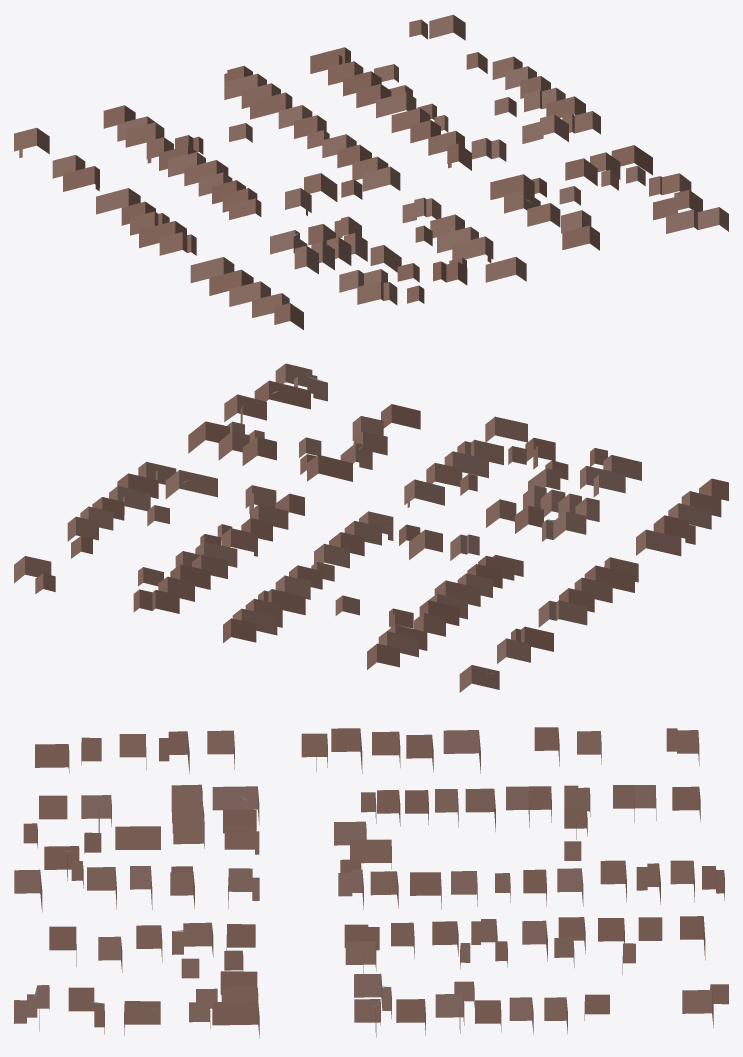
Rendered from c_1636_17820_buildings_residential.glb.
3 renders of one model, top to bottom at view 1: azimuth 30°, elevation 25°; view 2: azimuth 150°, elevation 25°; view 3: azimuth 270°, elevation 25°, orthographic. The views are drawn at different scales.
Visible parts, largest first — view 1: geometry_0; view 2: geometry_0; view 3: geometry_0.
Boxes of the visible parts, bbox=[...] form: geometry_0: bbox=[14, 14, 728, 329]; geometry_0: bbox=[14, 363, 728, 692]; geometry_0: bbox=[14, 727, 728, 1038].
Bounding box in the file's own units: 255 × 13.56 × 262.
